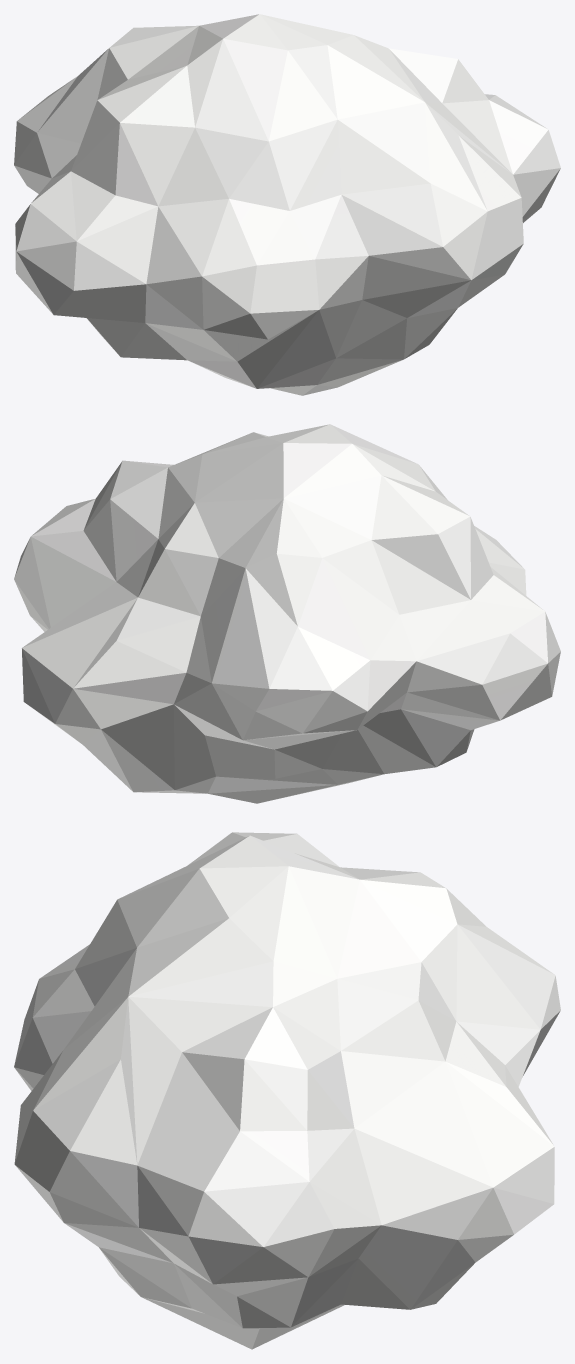
The model's file is oblako1.fbx.
3 views of the same model, one above another, from view 1: azimuth 30°, elevation 25°; view 2: azimuth 150°, elevation 25°; view 3: azimuth 270°, elevation 25° (orthographic). The views are drawn at different scales.
Parts seen in each view (by area): view 1: Mball.192; view 2: Mball.192; view 3: Mball.192.
Boxes of the visible parts, x1=… form: Mball.192: x1=14, y1=14, x2=560, y2=395; Mball.192: x1=14, y1=424, x2=560, y2=803; Mball.192: x1=14, y1=832, x2=560, y2=1349.
Bounding box in the file's own units: 1134 × 774 × 858.
